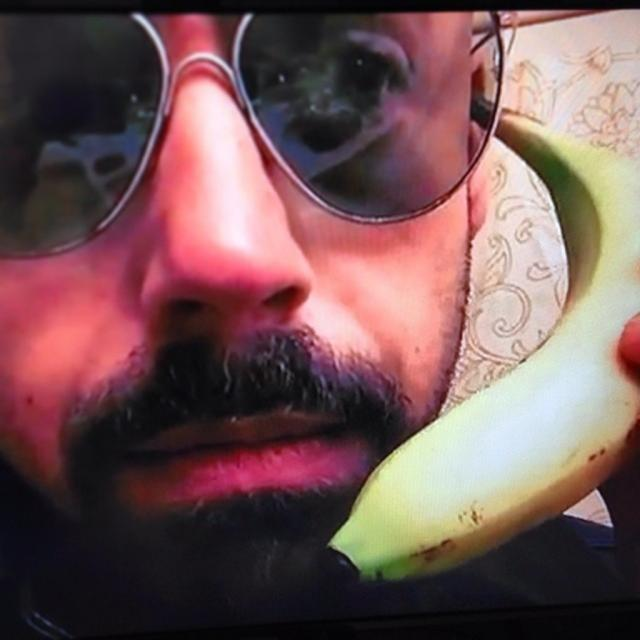Banana: (322, 91, 639, 589)
